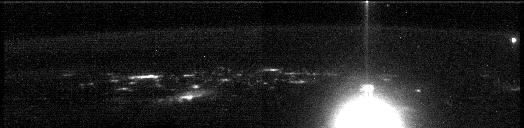positive: (356, 82, 377, 97)
